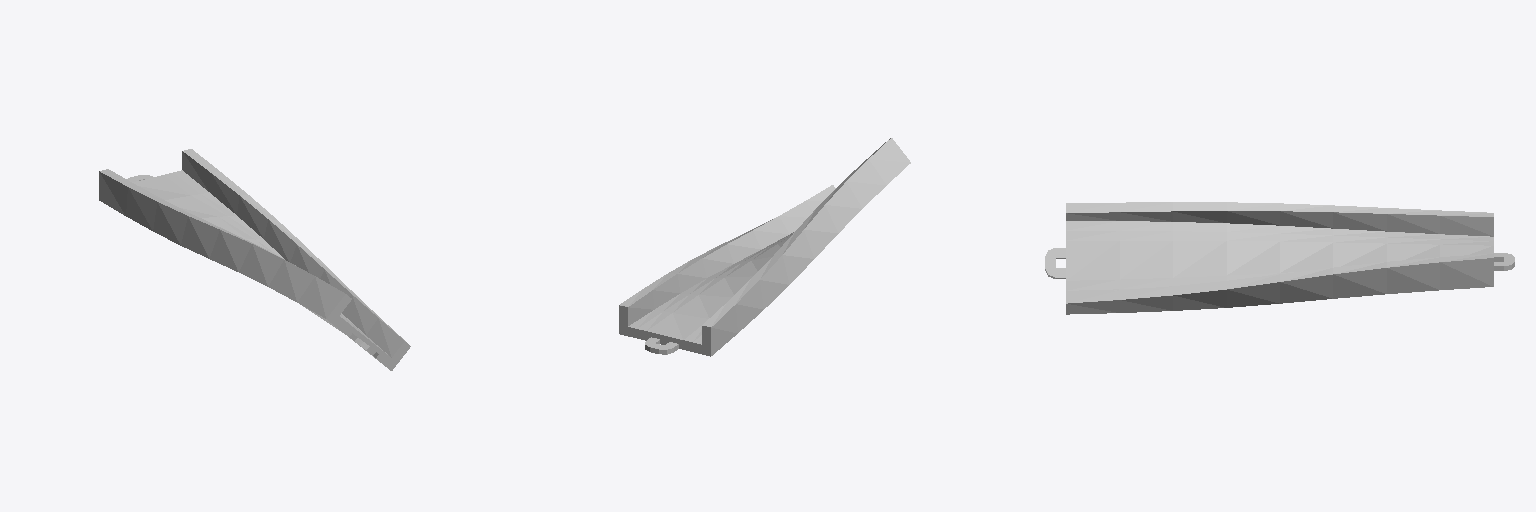
The model's file is track-road-narrow-straight-skew-left.obj.
3 renders of one model, left to right at view 1: azimuth 30°, elevation 25°; view 2: azimuth 150°, elevation 25°; view 3: azimuth 270°, elevation 25°, orthographic.
Parts seen in each view (by area): view 1: track-road-narrow-straight-skew-left; view 2: track-road-narrow-straight-skew-left; view 3: track-road-narrow-straight-skew-left.
Boxes of the visible parts, box(x1,y1,x2,y2) form: track-road-narrow-straight-skew-left: box(99, 149, 410, 370); track-road-narrow-straight-skew-left: box(619, 138, 910, 356); track-road-narrow-straight-skew-left: box(1045, 202, 1514, 314).
Size of the model in its own units: 1.08 by 0.9192 by 4.4.